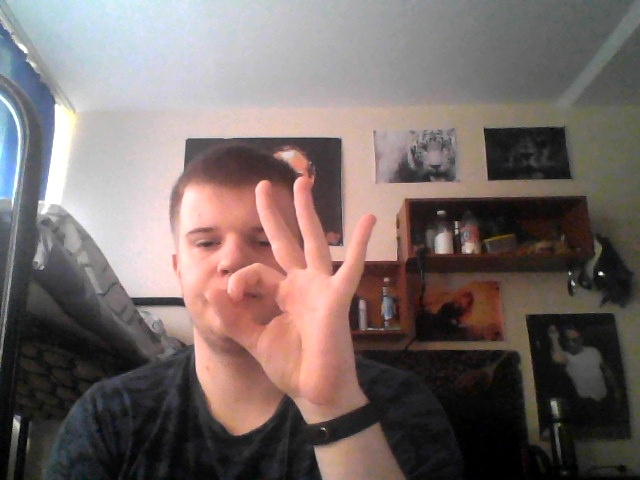ok: (205, 173, 381, 406)
